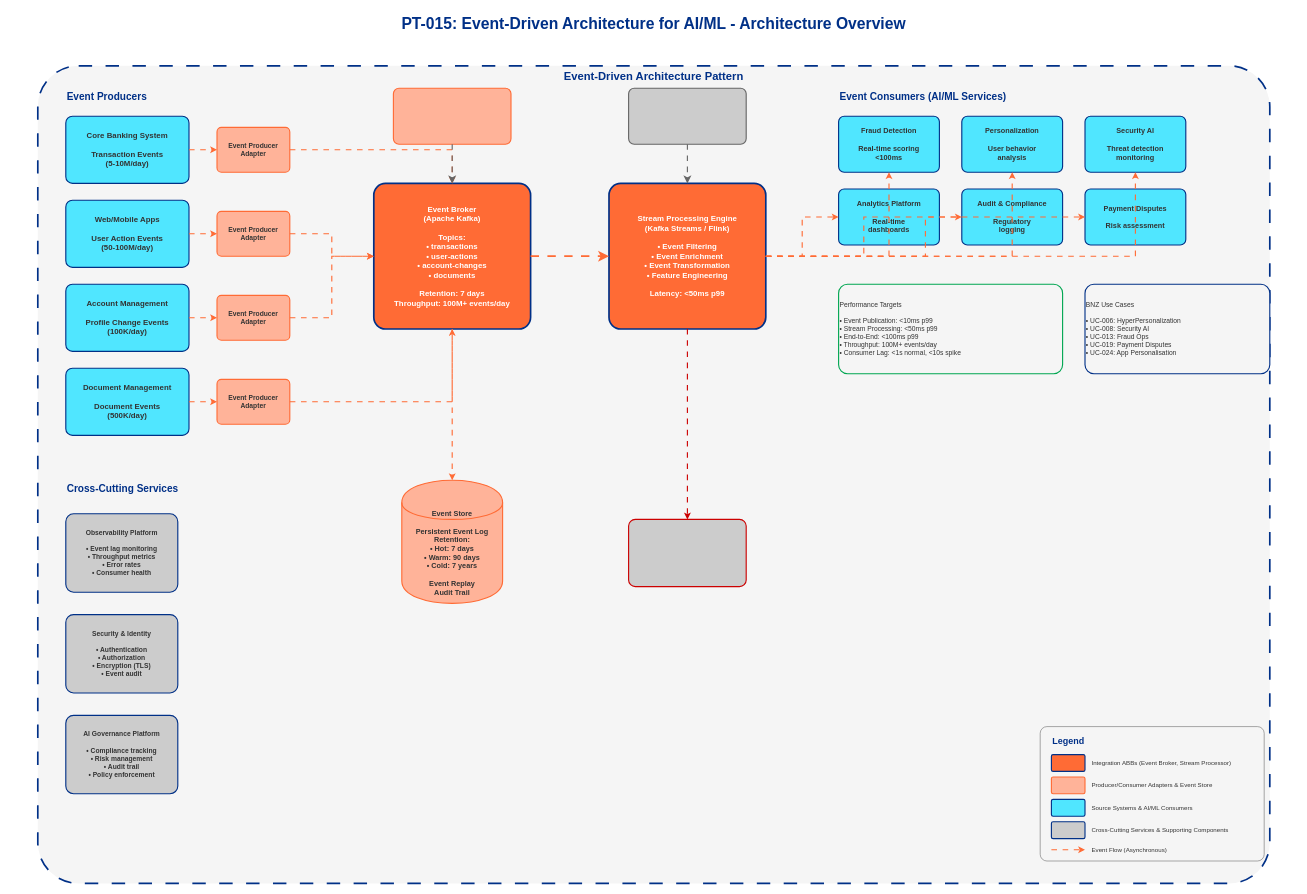
This 1307x894 diagram has some shape labels left out. The box of each missing label's shape, as (x1, y1, x2, y2) in pixels:
Dead Letter Queue Failed Events Retry Logic Manual Review: (628, 519, 746, 587)
Feature Store Real-Time Features for Enrichment: (628, 87, 746, 144)
Schema Registry Avro Schemas Version Control: (393, 87, 511, 144)
